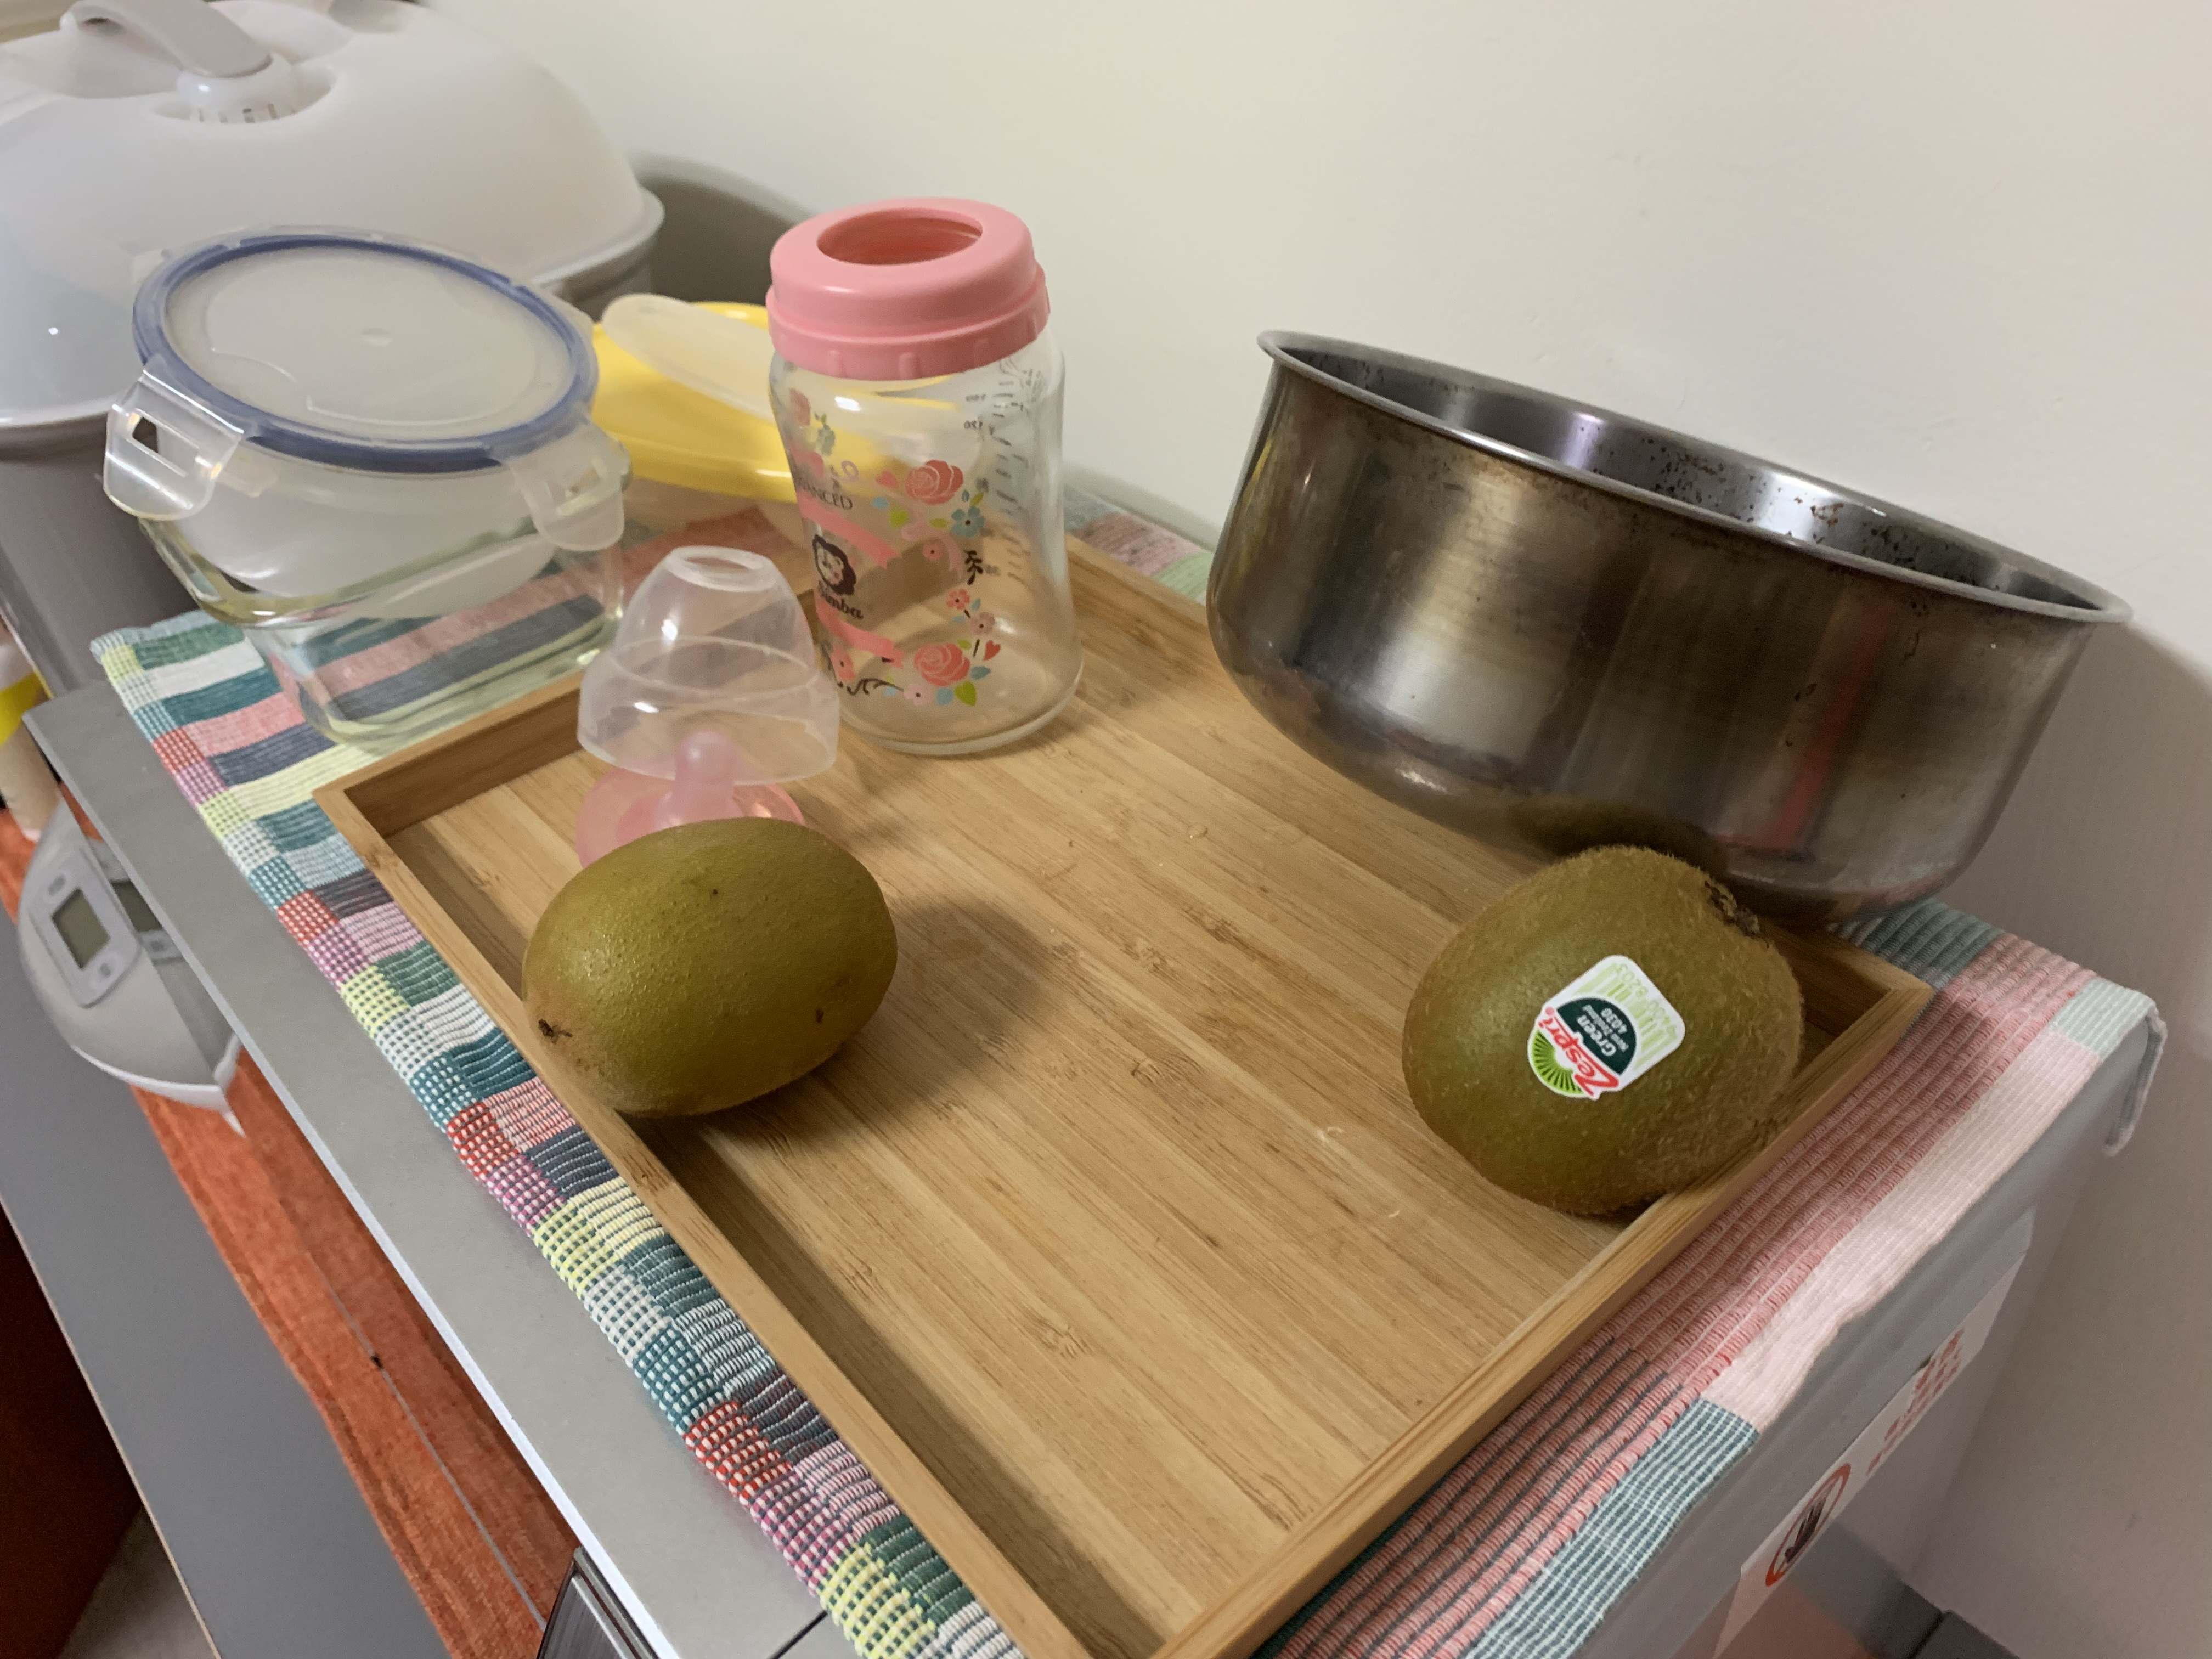kiwi: (1400, 843, 1803, 1220), (519, 810, 897, 1119)
